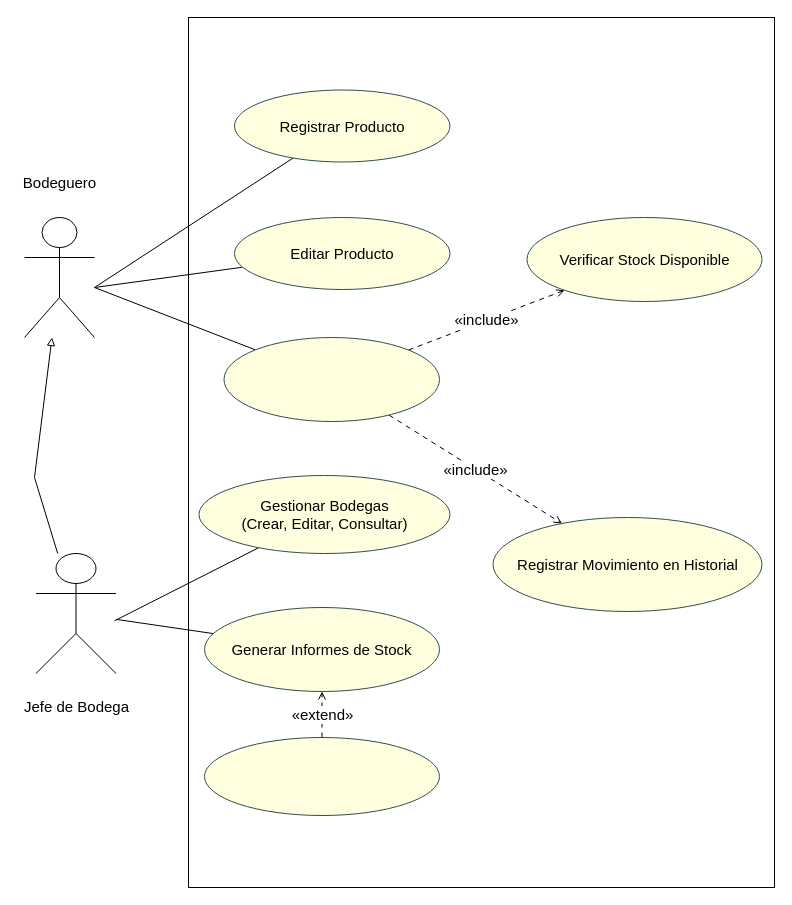
Image size: 792x905. Some labels were removed from this diagram. Each missing label, with the box of its shape:
Filtrar por Editorial/Tipo: (204, 736, 440, 816)
Trasladar Producto: (223, 336, 440, 422)
